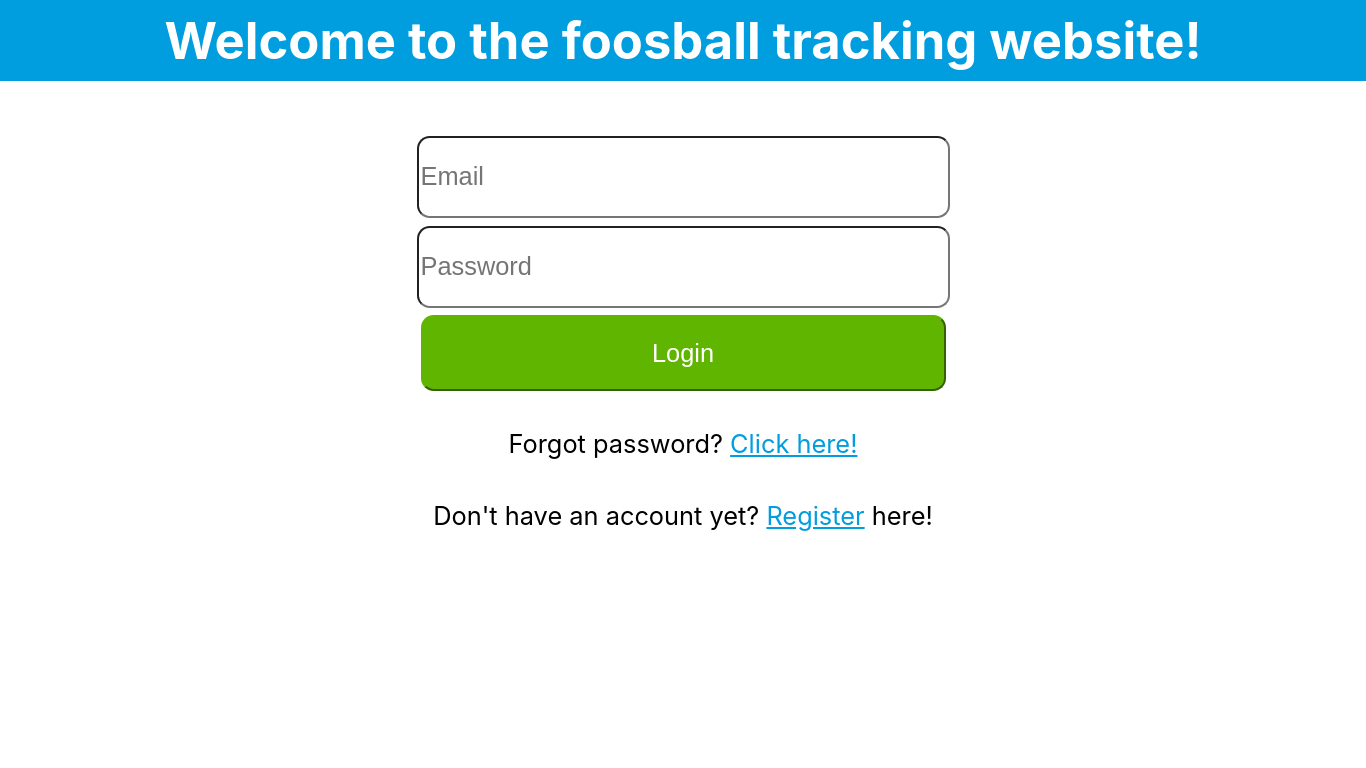
Test: can navigate to register page
Click the link "Register". click: (816, 515)
box: [766,500,865,531]
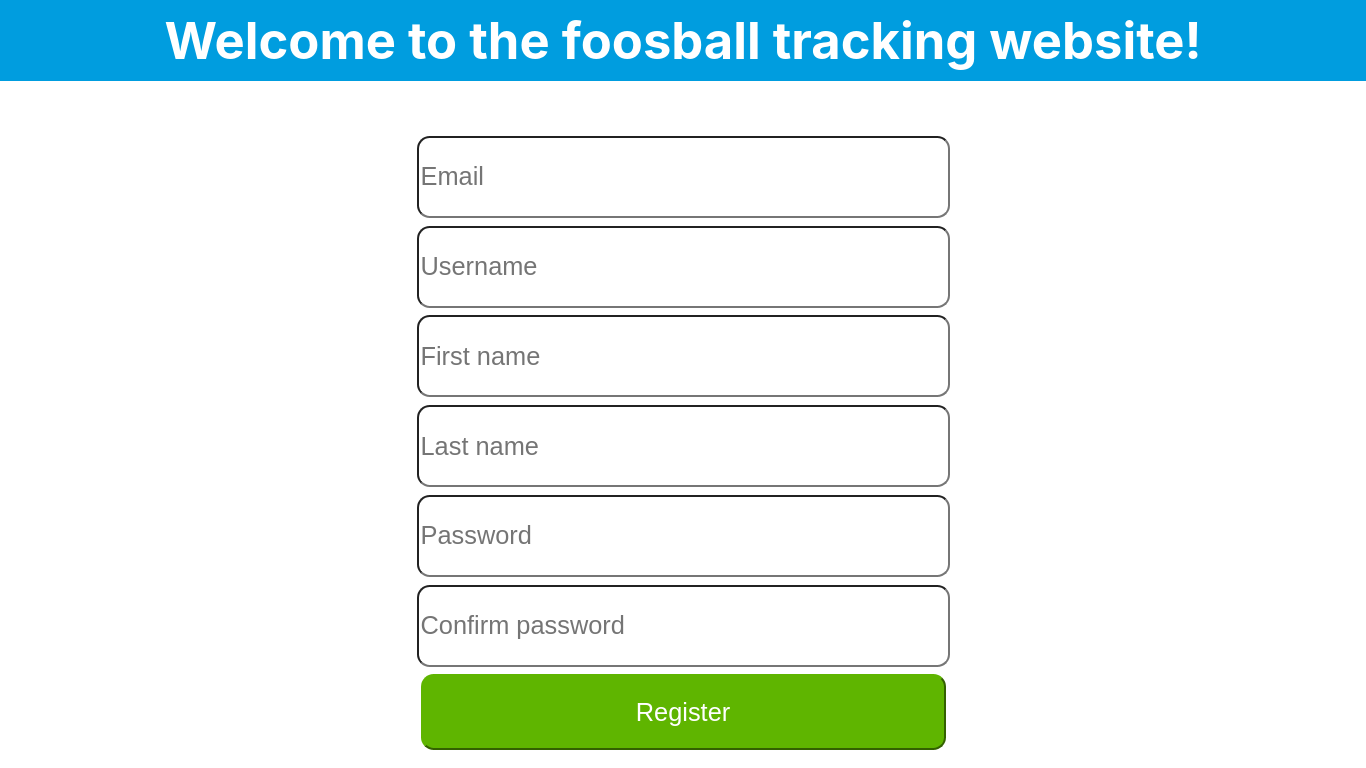
Expected: the button "Register" is shown, [420,674,946,750]
